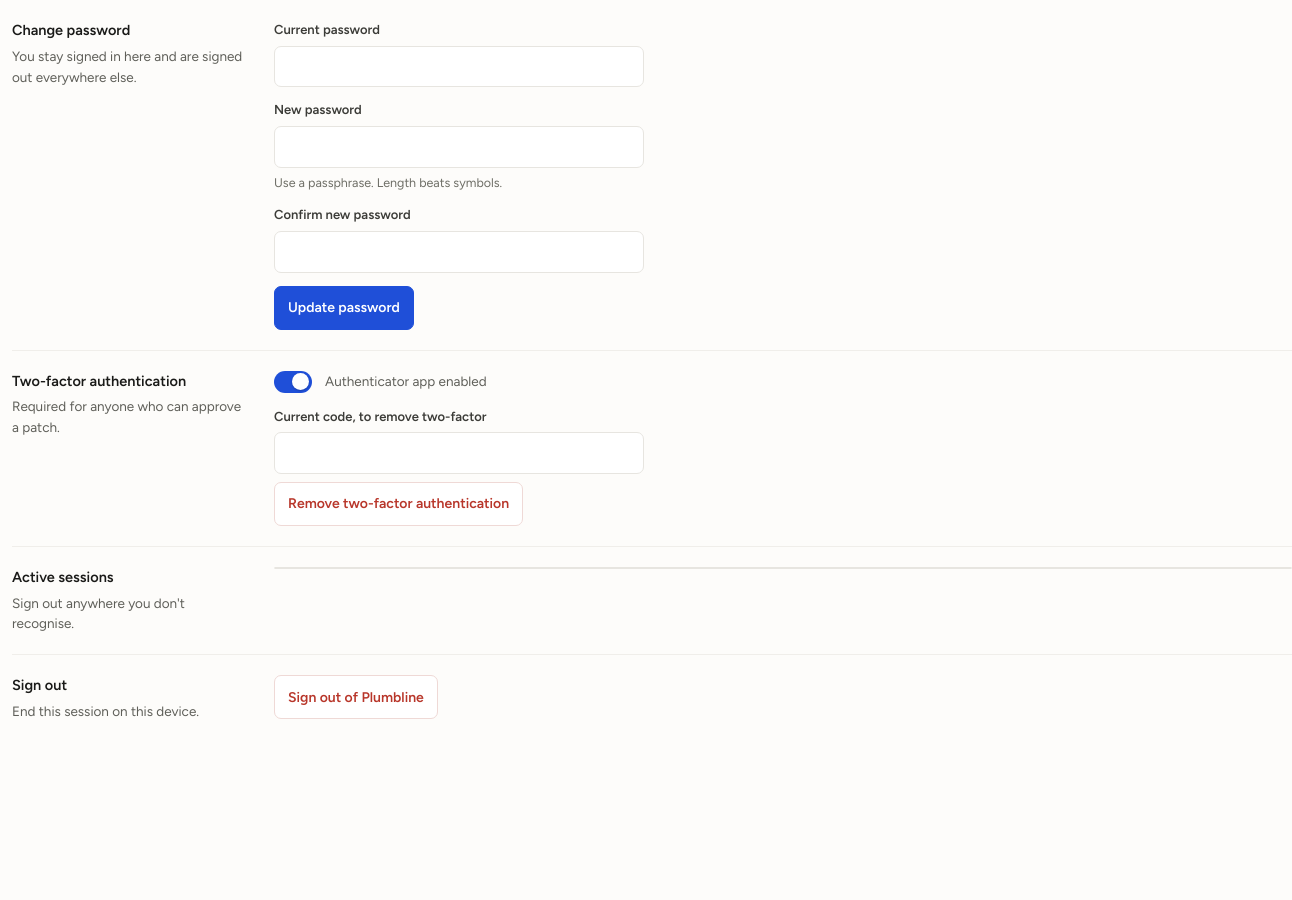
Test: removing TOTP requires a current code and reloads the account on success
The width and height of the screenshot is (1292, 900).
Check: the button "Remove two-factor authentication" is disabled, box top-left (274, 482), bottom-right (523, 526)
Type "654321" into the field labelled "Current code, to remove two-factor" at x=459, y=453, box top-left (274, 432), bottom-right (644, 474)
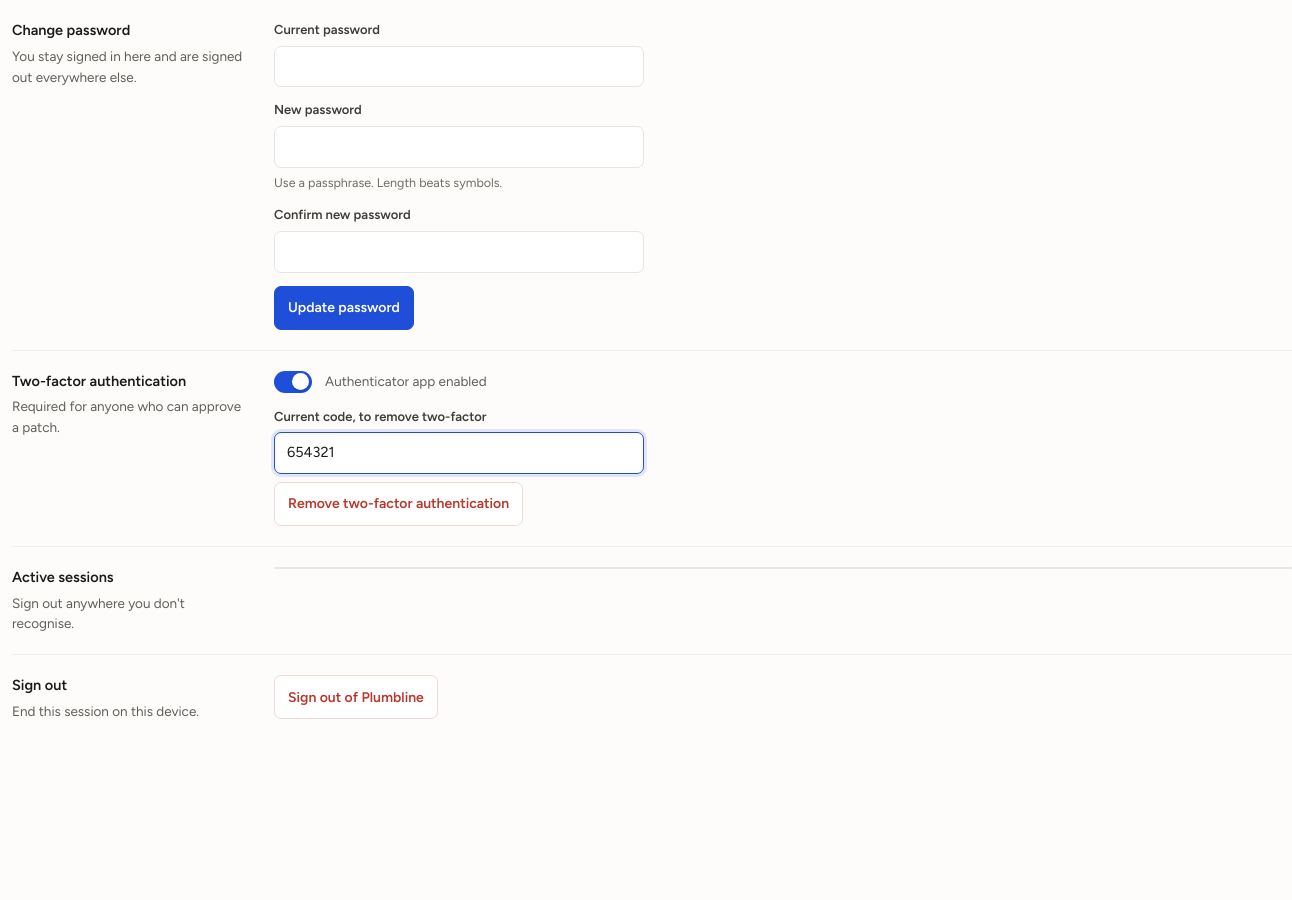
Click the button "Remove two-factor authentication" at x=399, y=504, box top-left (274, 482), bottom-right (523, 526)
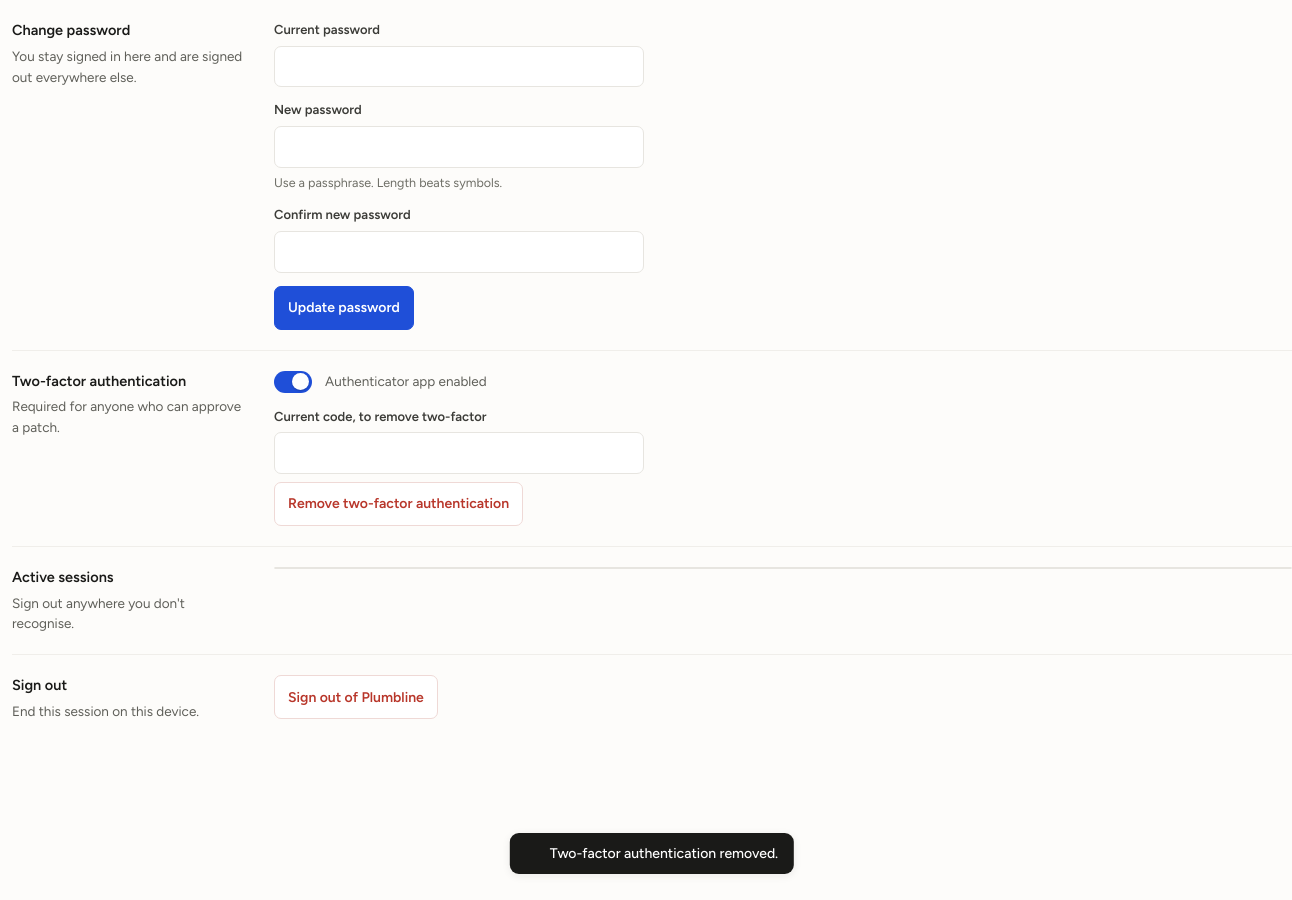
Check: the text "Two-factor authentication removed." is shown, box top-left (510, 833), bottom-right (794, 874)
